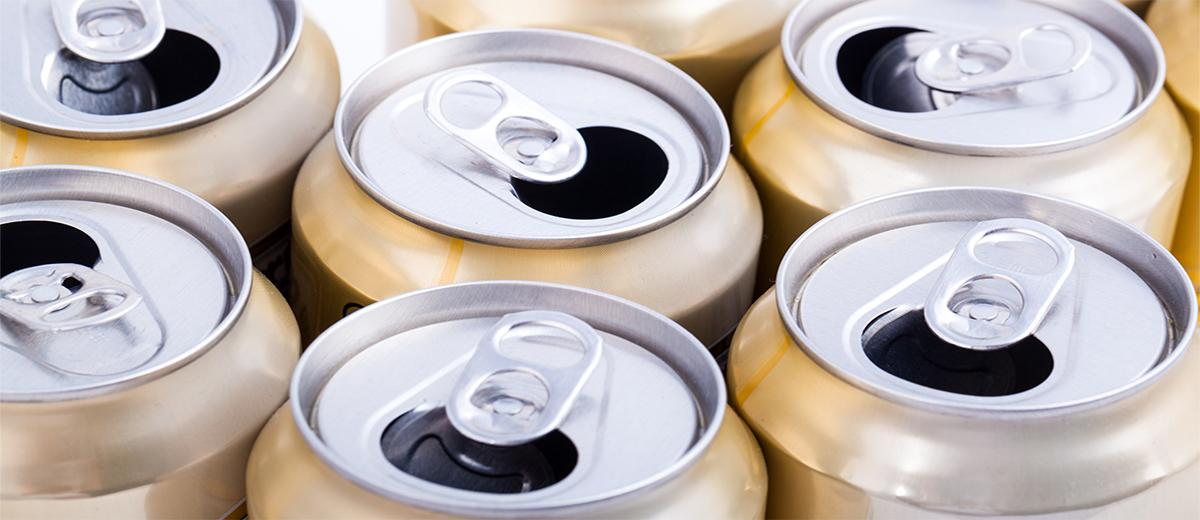metal: (731, 179, 1200, 520), (285, 32, 761, 329), (251, 269, 754, 520), (0, 162, 280, 520), (742, 0, 1200, 213), (0, 0, 337, 181)
